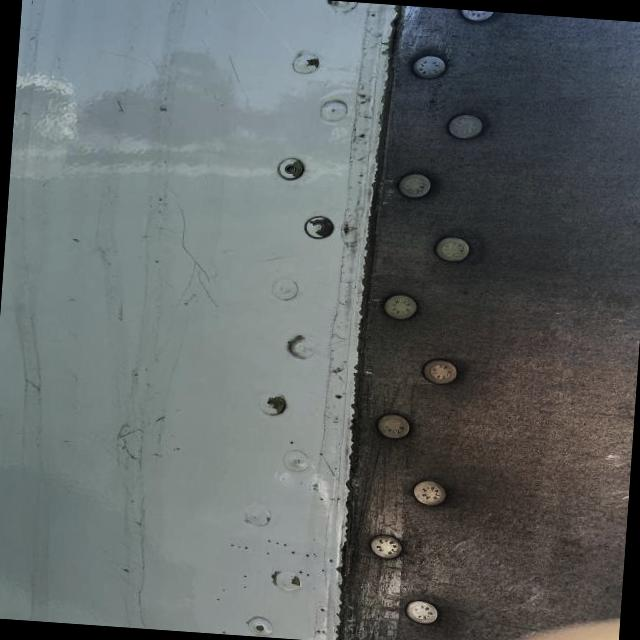crack: (160, 213, 234, 309), (102, 414, 168, 472)
